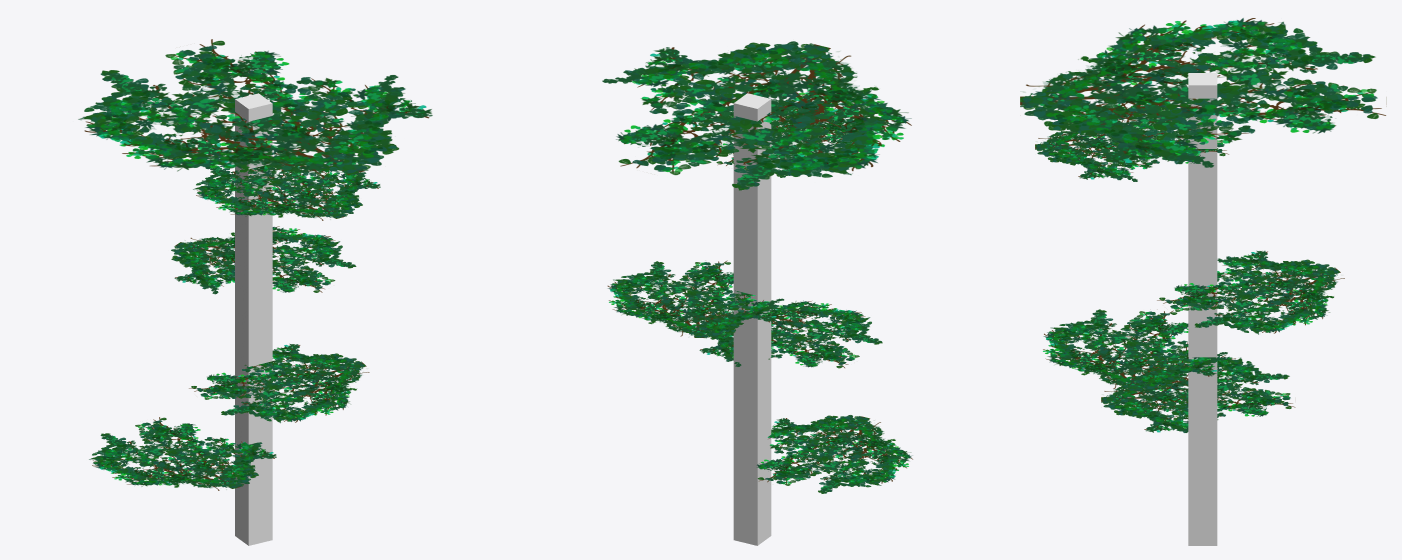
Rendered from treeAlphaTest.glb.
The picture shows the model from 3 angles, left to right: view 1: azimuth 30°, elevation 25°; view 2: azimuth 150°, elevation 25°; view 3: azimuth 270°, elevation 25°; orthographic projection. The views are drawn at different scales.
Parts seen in each view (by area): view 1: Plane.004, Cube, Plane, Plane.002, Plane.003, Plane.001; view 2: Plane.004, Cube, Plane, Plane.001, Plane.002, Plane.003; view 3: Plane.004, Cube, Plane.001, Plane.002, Plane, Plane.003.
Boxes of the visible parts, x1,y1,x2,y2 form: Plane.004: (78,39,432,178); Cube: (235,93,272,545); Plane: (89,417,276,490); Plane.002: (189,344,369,423); Plane.003: (193,154,380,220); Plane.001: (171,226,356,294); Plane.004: (602,41,911,190); Cube: (733,93,771,545); Plane: (756,415,913,493); Plane.001: (607,260,784,338); Plane.002: (699,300,882,368); Plane.003: (716,99,854,177); Plane.004: (1020,18,1386,167); Cube: (1188,73,1217,545); Plane.001: (1157,250,1344,334); Plane.002: (1043,309,1227,391); Plane: (1101,355,1295,432); Plane.003: (1035,104,1228,181).
Size of the model in its own units: 3.8 by 5.23 by 3.78.
2 materials, 1 textured.
